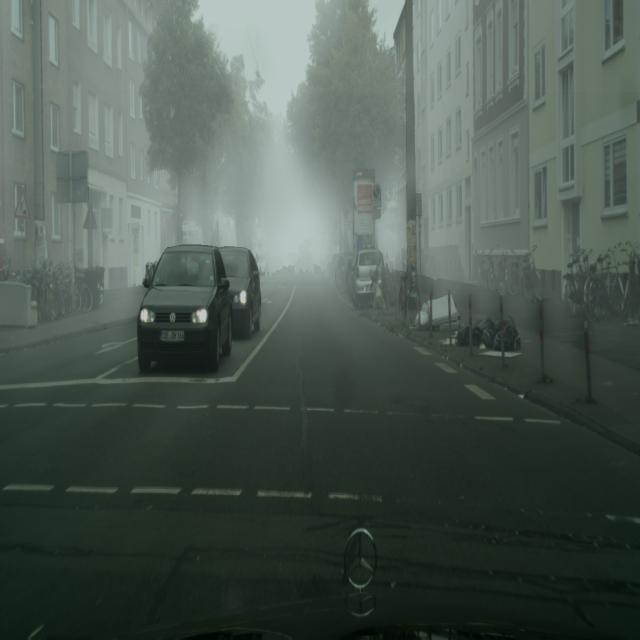car: (586, 245, 627, 320), (562, 241, 594, 316), (59, 262, 93, 312), (521, 244, 543, 302)
truck: (137, 244, 233, 374), (219, 246, 262, 339), (350, 248, 384, 310), (335, 254, 350, 289), (328, 254, 339, 281), (277, 255, 291, 270)
